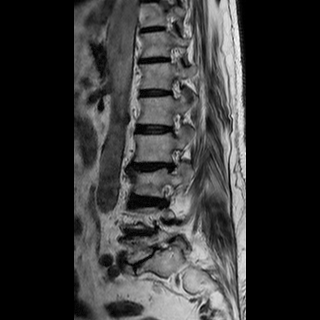LFS0: (165, 108, 186, 142)
